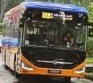bus: (42, 11, 52, 19)
